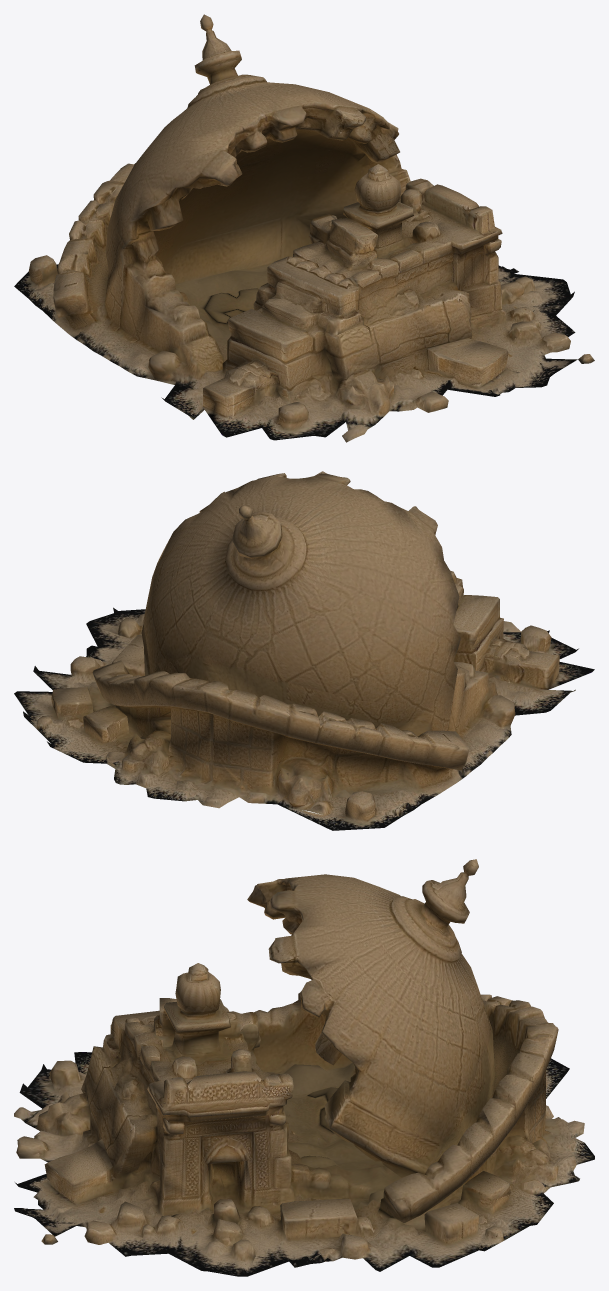
The model's file is large+ruins (2).glb.
The picture shows the model from 3 angles, top to bottom: view 1: azimuth 30°, elevation 25°; view 2: azimuth 150°, elevation 25°; view 3: azimuth 270°, elevation 25°; orthographic projection. The views are drawn at different scales.
Parts seen in each view (by area): view 1: tripo_node_b43cf0e0-3763-40bc-b047-bf57bcbe96a9; view 2: tripo_node_b43cf0e0-3763-40bc-b047-bf57bcbe96a9; view 3: tripo_node_b43cf0e0-3763-40bc-b047-bf57bcbe96a9.
Boxes of the visible parts, bbox=[...] form: tripo_node_b43cf0e0-3763-40bc-b047-bf57bcbe96a9: bbox=[14, 14, 594, 442]; tripo_node_b43cf0e0-3763-40bc-b047-bf57bcbe96a9: bbox=[14, 471, 594, 830]; tripo_node_b43cf0e0-3763-40bc-b047-bf57bcbe96a9: bbox=[14, 859, 594, 1276].
Bounding box in the file's own units: 0.9668 × 0.5488 × 0.998.
Materials: 1 (1 with a texture image).
